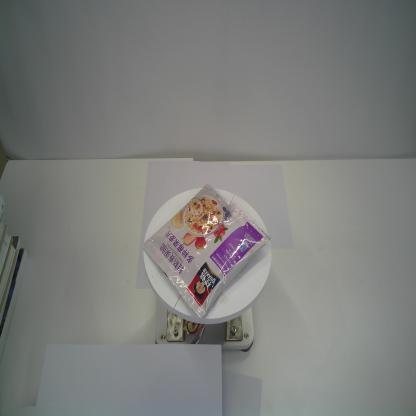Instant Drink: (142, 183, 271, 320)
